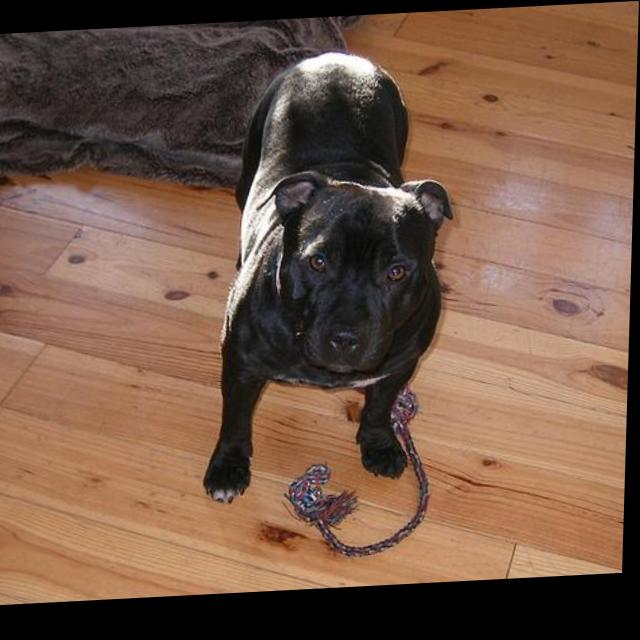staffford: (207, 49, 461, 509)
